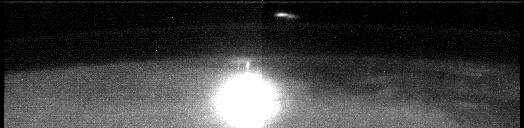positive: (239, 57, 253, 72)
